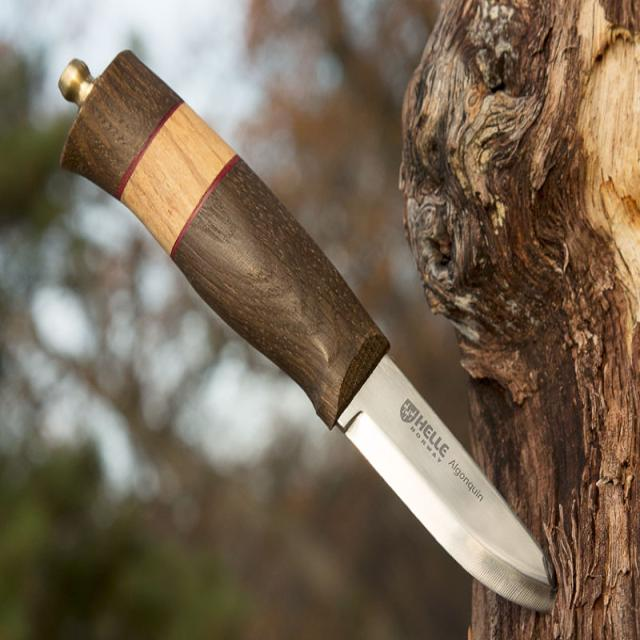knife: (57, 35, 562, 615)
